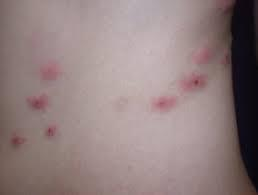Fleas: (179, 71, 206, 91), (7, 129, 28, 149), (150, 96, 176, 111), (40, 63, 59, 80), (193, 47, 212, 63), (26, 96, 48, 109), (216, 0, 234, 13), (220, 49, 230, 66), (45, 125, 57, 138)
